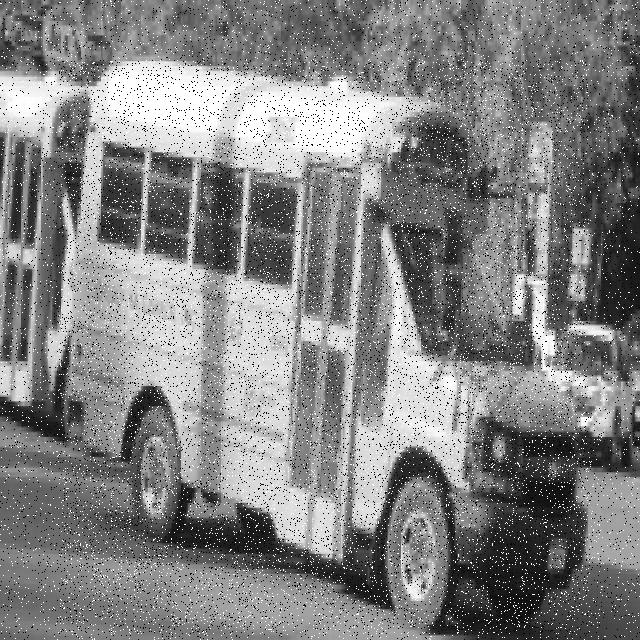Bus- Small: (59, 60, 588, 634)
